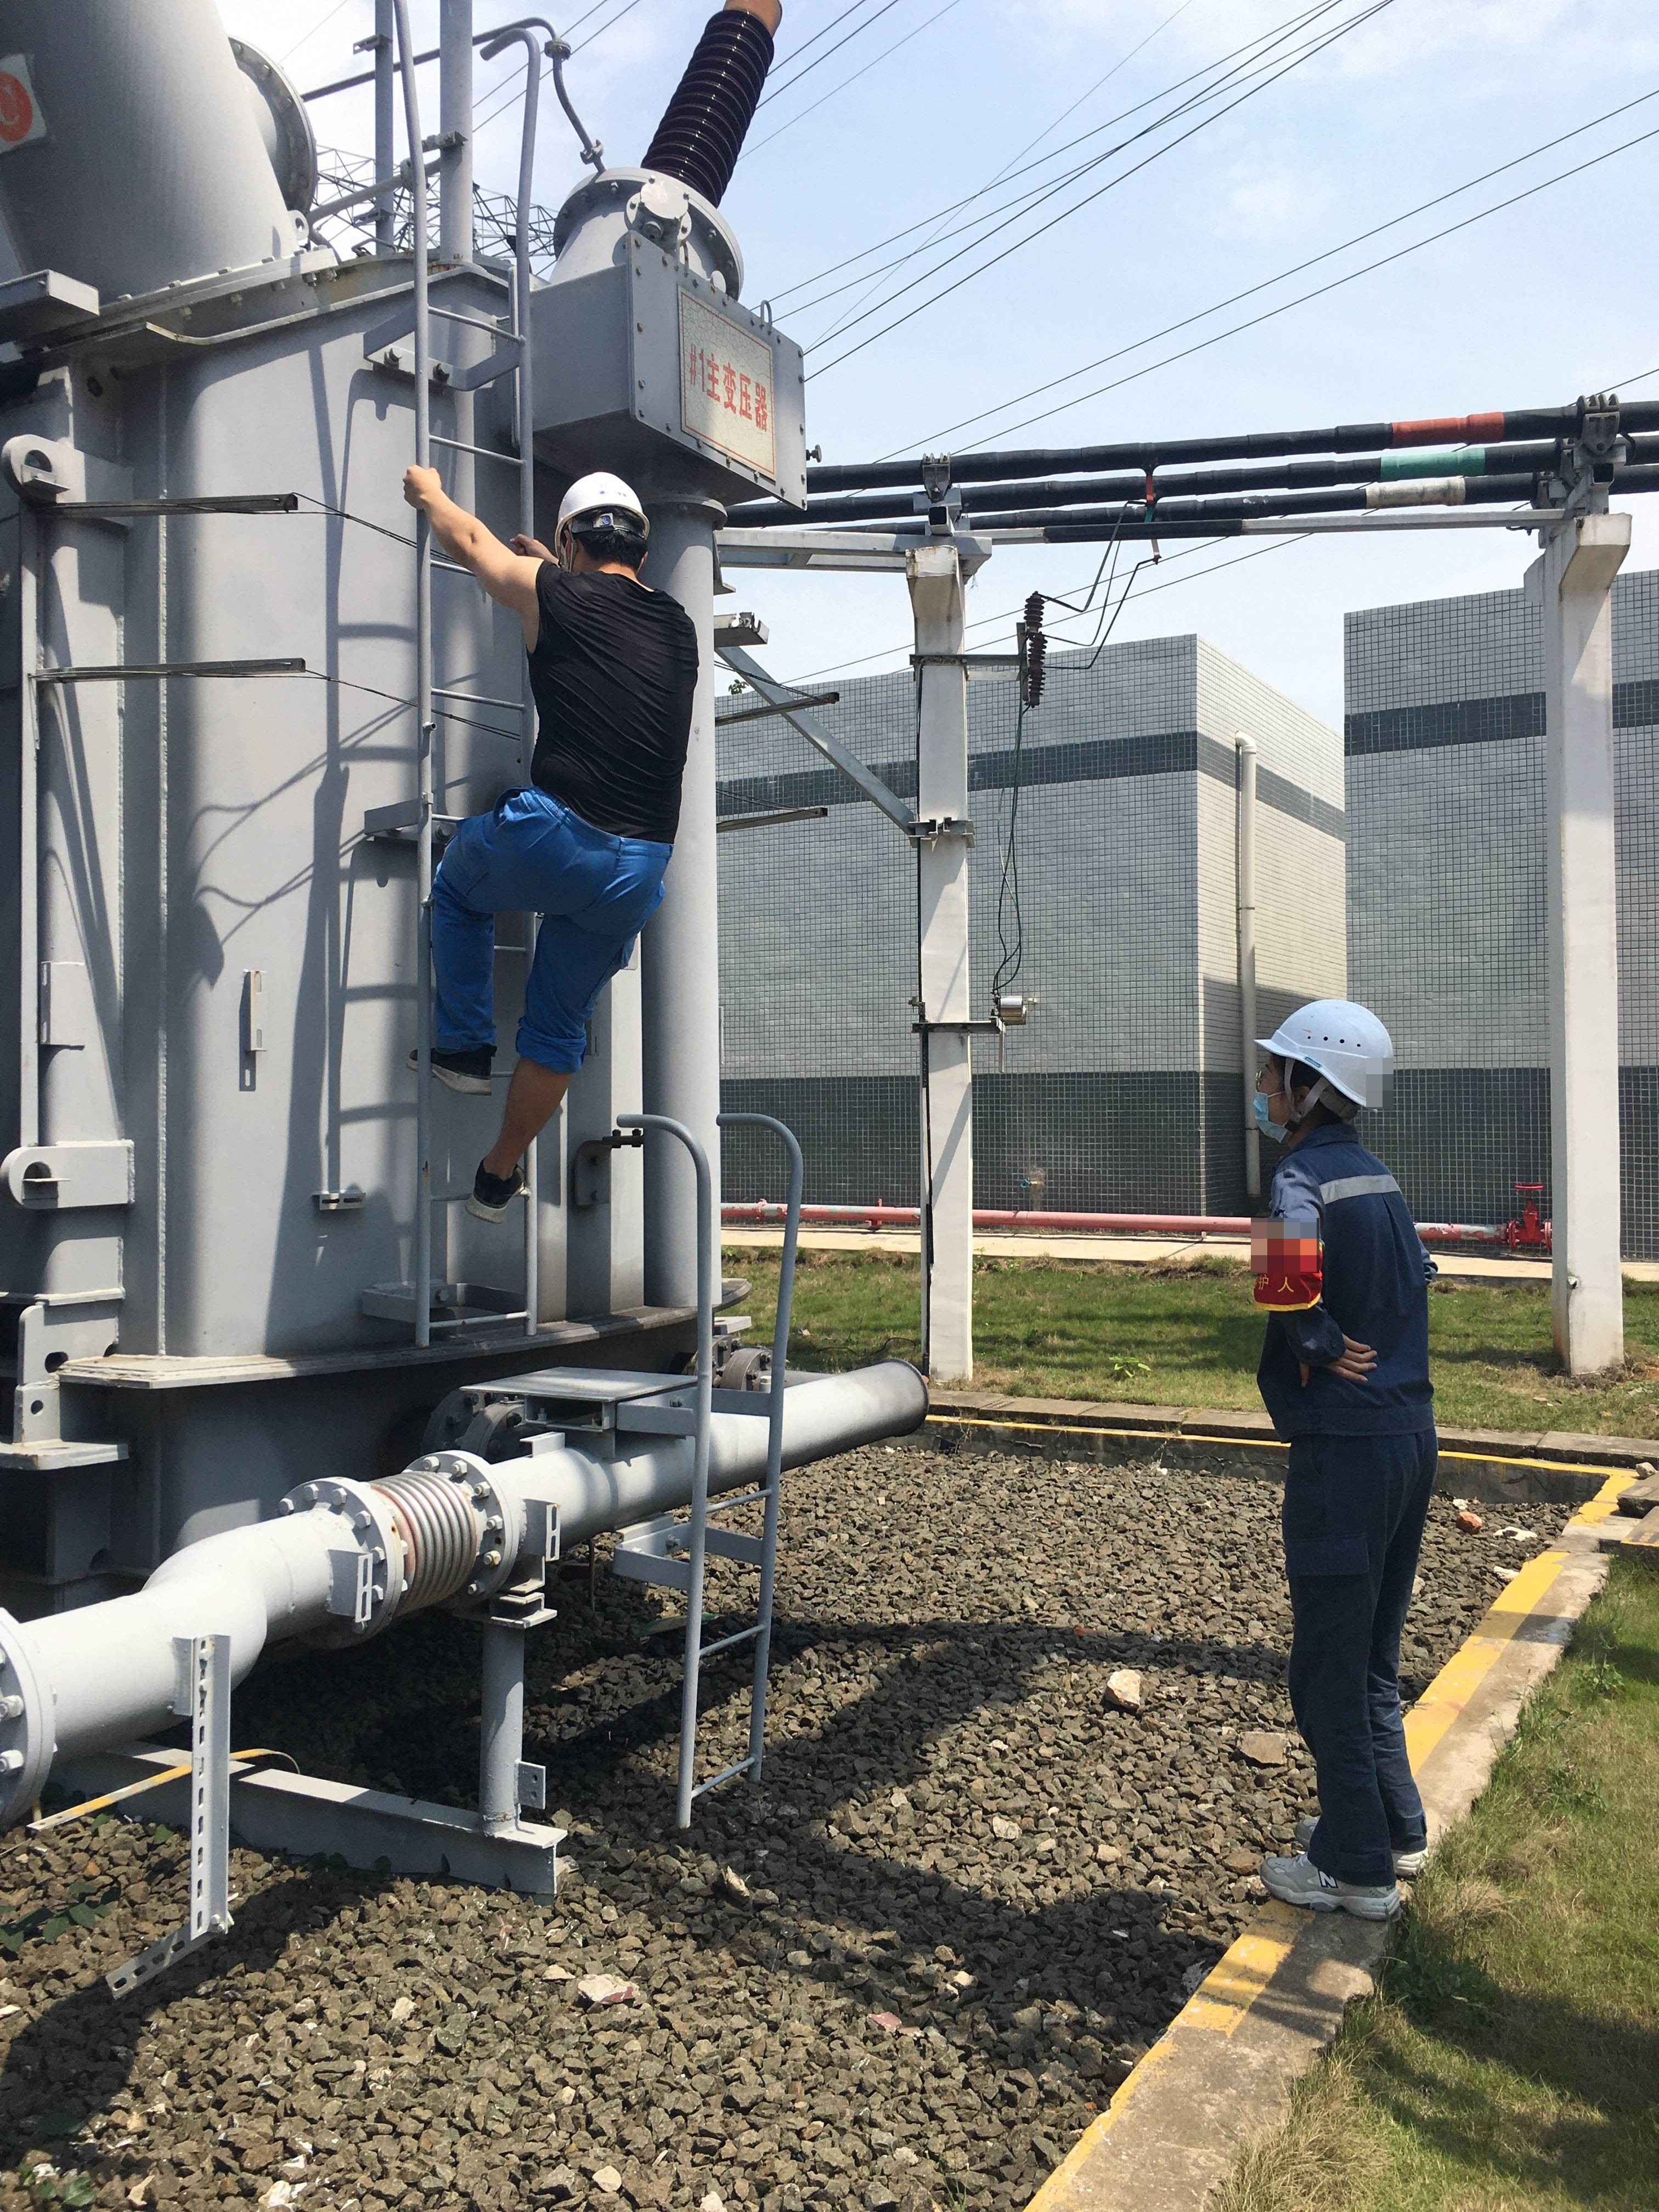downsuit: (425, 787, 680, 1078), (1269, 1461, 1439, 1867)
upcloth: (523, 561, 706, 834)
upsuit: (1248, 1130, 1441, 1439)
wrongbottom: (479, 1028, 586, 1198)
